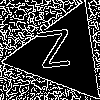Z: (36, 29, 75, 78)
